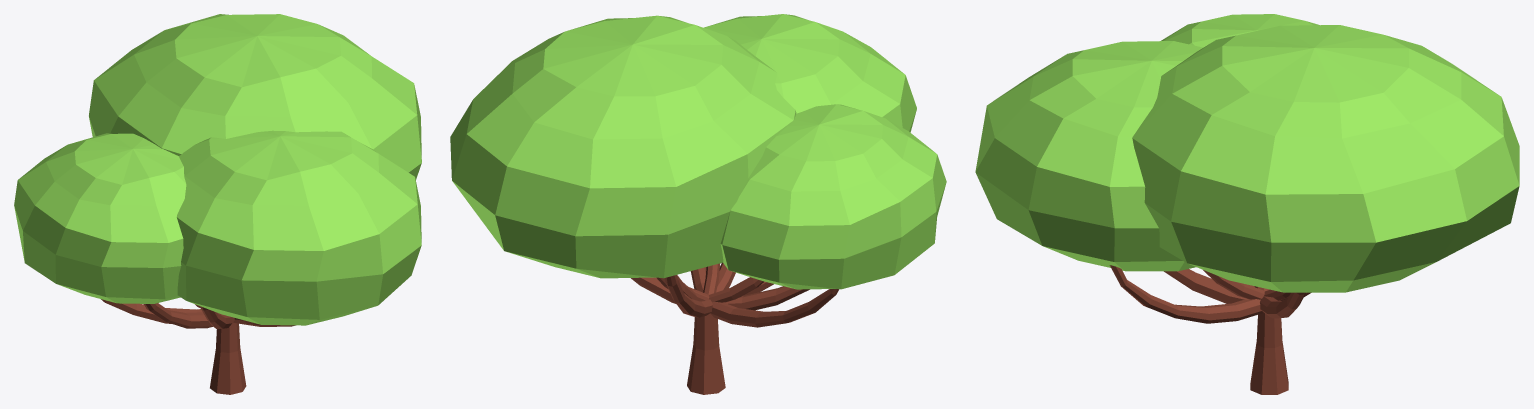
3 renders of one model, left to right at view 1: azimuth 30°, elevation 25°; view 2: azimuth 150°, elevation 25°; view 3: azimuth 270°, elevation 25°, orthographic. The views are drawn at different scales.
Parts seen in each view (by area): view 1: sphere (×3), cylinder (×4); view 2: sphere (×3), cylinder (×6); view 3: sphere (×3), cylinder (×5).
Part boxes in pixels (x1=…): sphere (×3): x1=14, y1=14, x2=421, y2=325; cylinder (×4): x1=101, y1=299, x2=246, y2=394; sphere (×3): x1=450, y1=14, x2=946, y2=289; cylinder (×6): x1=631, y1=275, x2=838, y2=394; sphere (×3): x1=975, y1=14, x2=1519, y2=292; cylinder (×5): x1=1109, y1=265, x2=1305, y2=394.
Bounding box in the file's own units: 1.48 × 1.18 × 1.59.
Materials: 1 (1 with a texture image).
